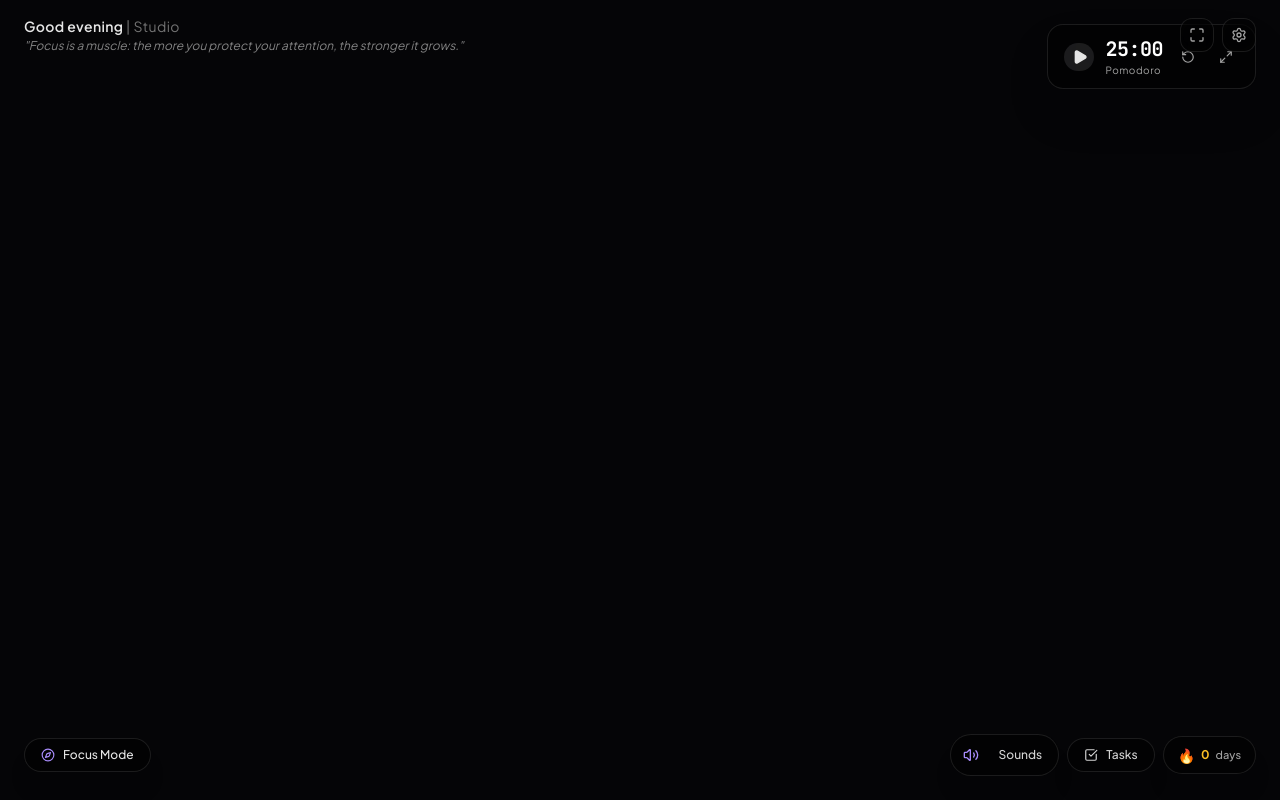
Test: App Root Integration Tests › opens and closes soundscapes audio mixer modal
Click the button "Sounds".
click(1020, 755)  # box [986,741,1054,769]
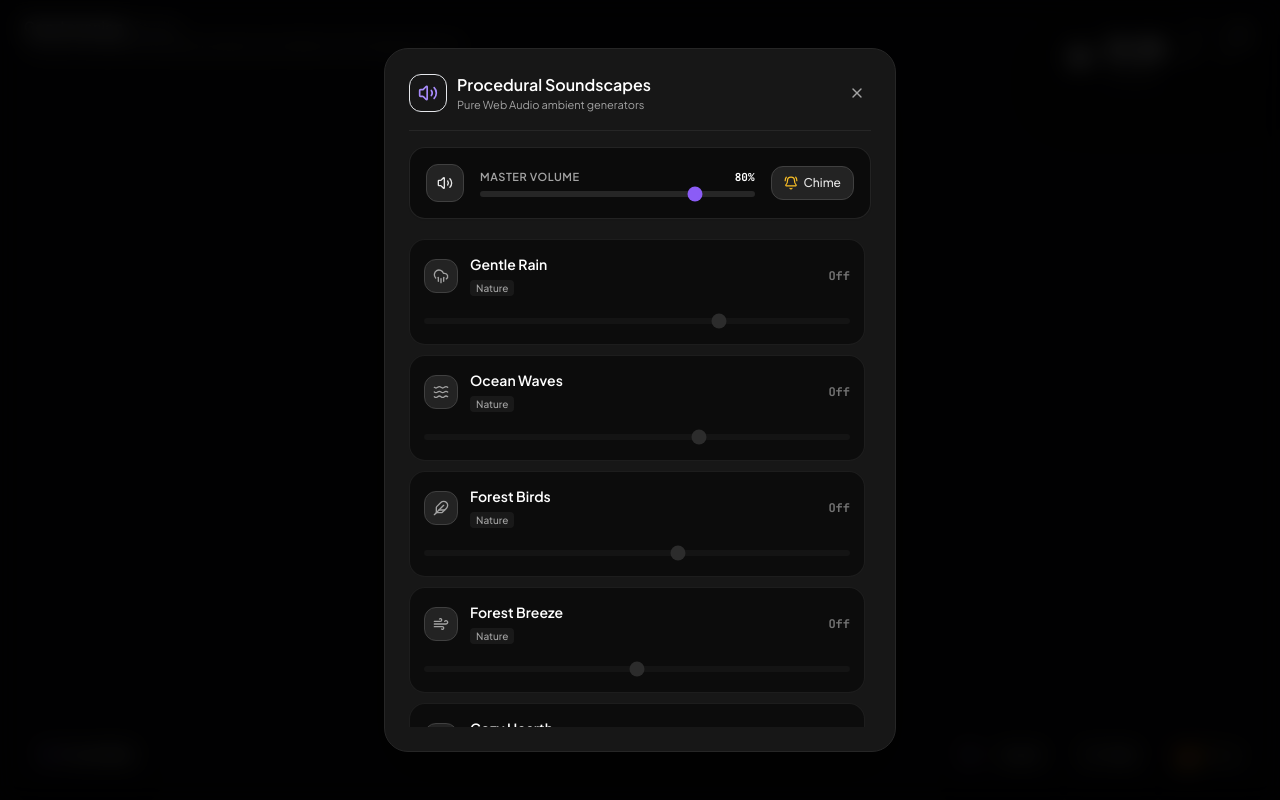
Now the heading "Procedural Soundscapes" is shown, box [457,73,651,97]
Now the text "Gentle Rain" is shown, box [470,254,547,274]
Now the text "Ocean Waves" is shown, box [470,370,563,390]
Click the button named "Close mixer".
click(857, 93)  # box [843,79,871,107]
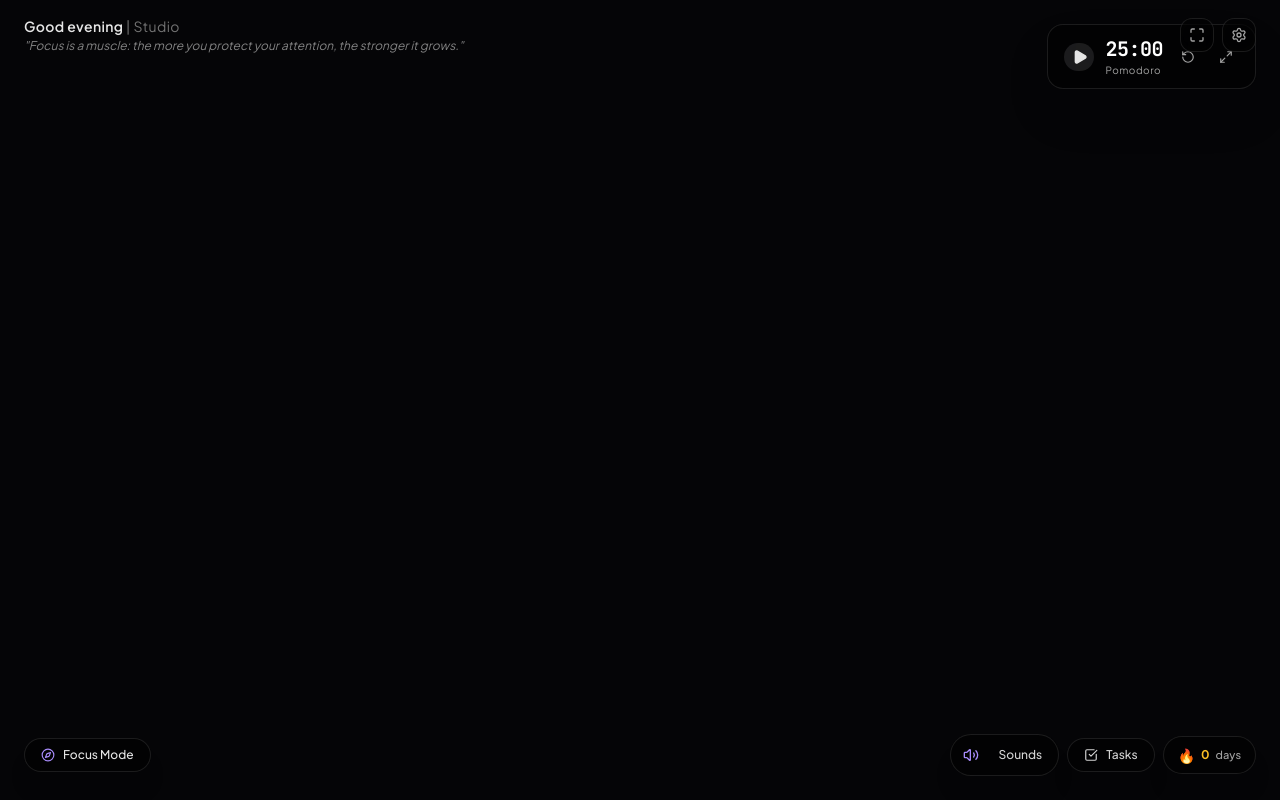
Now the heading "Procedural Soundscapes" is gone
